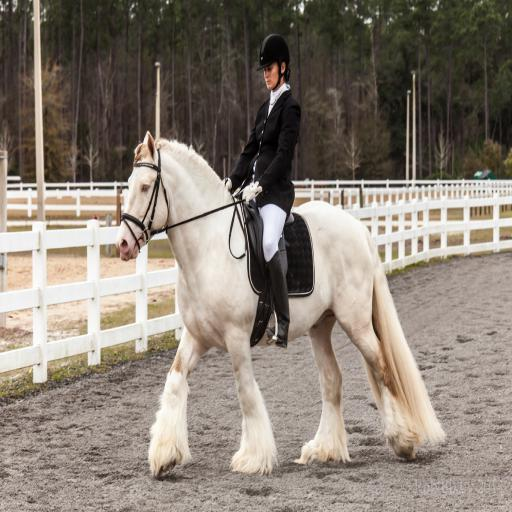horse: (114, 128, 448, 480)
